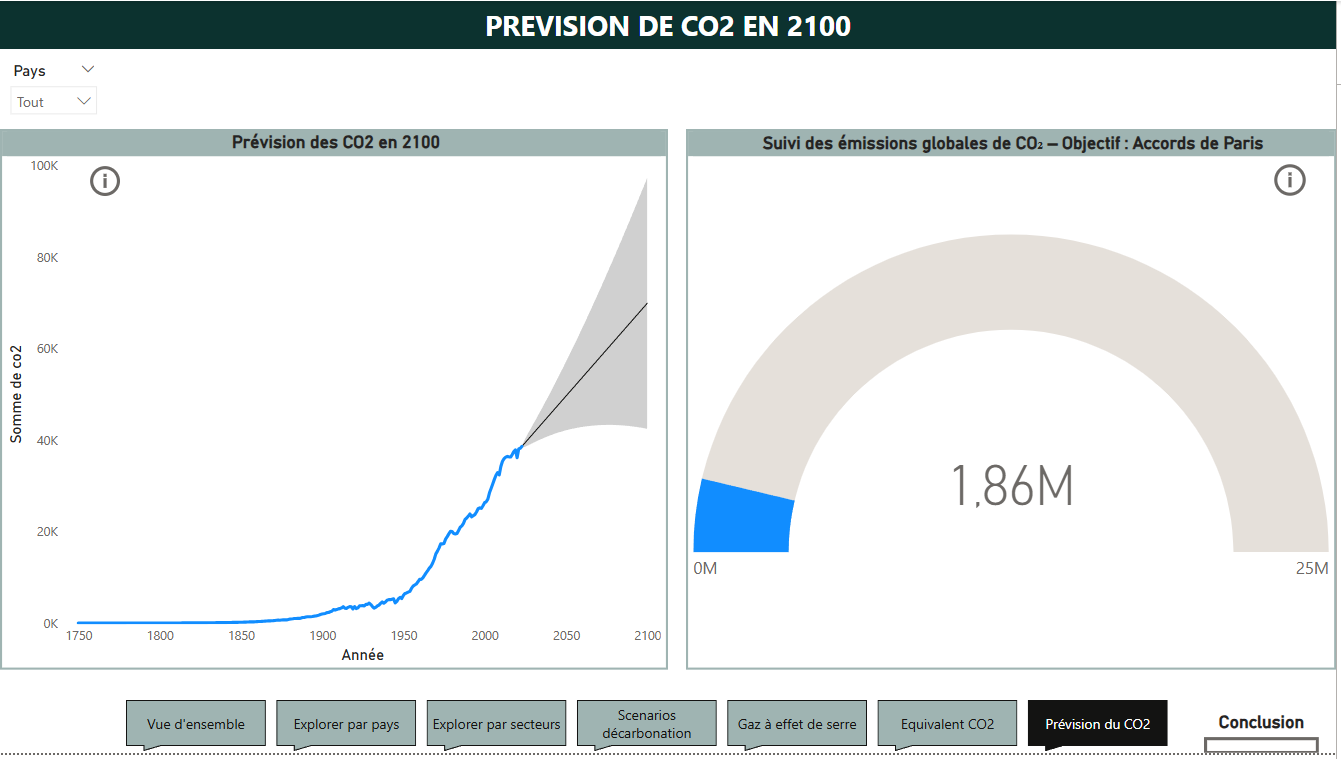

Layout of this report page (visuals, bound fields, positions):
{"tool":"powerbi","page":{"name":"Prévision du CO2","canvas":[1280,720],"ordinal":6},"visuals":[{"type":"group","id":"g1","title":"Groupe 1","box":[0,122.6,640,518.4],"z":0},{"type":"lineChart","title":"Prévision des CO2 en 2100","fields":{"Category":["Data.Année"],"Y":["Sum(Data.co2)"]},"box":[0,122.6,640,518.4],"z":0,"group":"g1"},{"type":"gauge","title":"Suivi des émissions globales de CO₂ – Objectif : Accords de Paris","fields":{"Y":["Sum(Data.co2)"],"MinValue":["DAX.Valeur_min"],"MaxValue":["DAX.Valeur_critiqueCO2(Mt)"]},"box":[657.2,122.6,622.8,518.3],"z":0,"group":"g2"},{"type":"actionButton","box":[1215.8,151.3,47.9,40.2],"z":1000,"group":"g2"},{"type":"actionButton","box":[81.6,153.5,45.2,38.4],"z":1000,"group":"g1"},{"type":"pageNavigator","box":[120.6,670.2,999.9,49.6],"z":1000},{"type":"textbox","box":[0,0,1280,45.7],"z":2000},{"type":"slicer","fields":{"Values":["Data.Pays"]},"box":[0,53.5,103.1,55.4],"z":3000},{"type":"group","id":"g2","title":"Groupe 2","box":[657.2,122.6,622.8,518.3],"z":4000},{"type":"actionButton","title":"Conclusion","box":[1154,679.8,110.2,40.3],"z":5000}]}

Visuals, with their boxes in screenshot pixels (x1, y1, x2, y2), scaled from the page's 1280x720 canvas onto the 1341x759 screenshot:
"Groupe 1" group: detection(0, 129, 670, 676)
"Prévision des CO2 en 2100" lineChart: detection(0, 129, 670, 676)
"Suivi des émissions globales de CO₂ – Objectif : Accords de Paris" gauge: detection(689, 129, 1340, 676)
actionButton: detection(1274, 159, 1324, 202)
actionButton: detection(85, 162, 133, 202)
pageNavigator: detection(126, 707, 1174, 758)
textbox: detection(0, 0, 1340, 48)
slicer - Data.Pays: detection(0, 56, 108, 115)
"Groupe 2" group: detection(689, 129, 1340, 676)
"Conclusion" actionButton: detection(1209, 717, 1324, 758)
